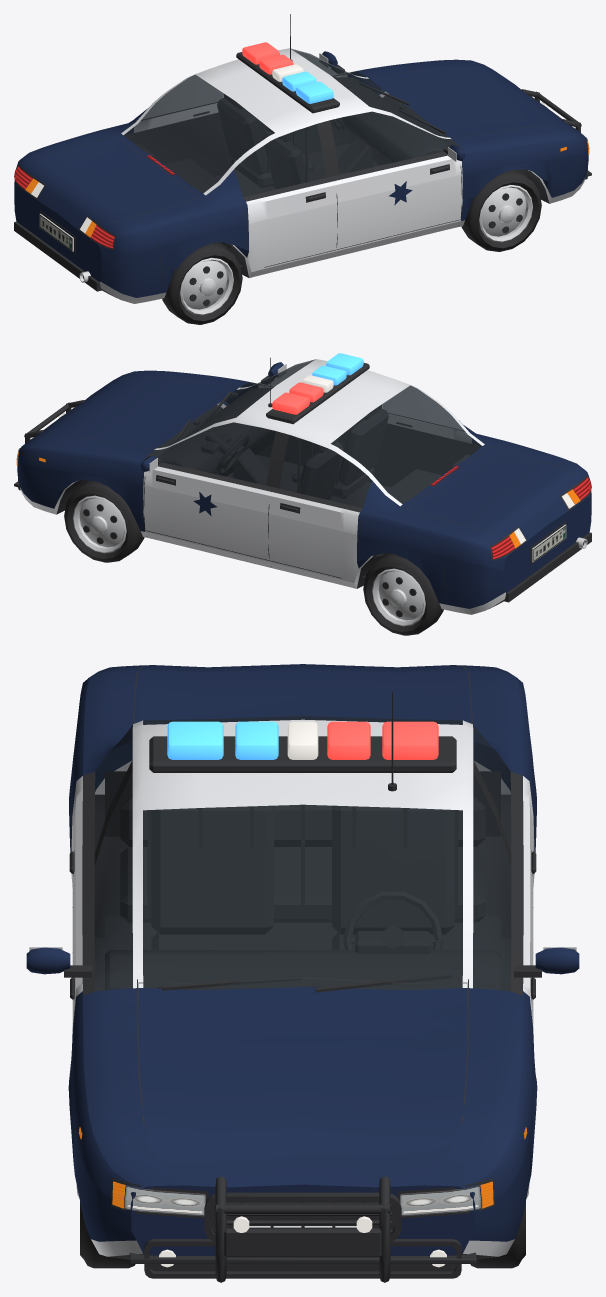
File: car_police.glb
The picture shows the model from 3 angles, top to bottom: view 1: azimuth 30°, elevation 25°; view 2: azimuth 150°, elevation 25°; view 3: azimuth 270°, elevation 25°; orthographic projection. The views are drawn at different scales.
Visible parts, largest first — view 1: Body, Wheel_RR, Wheel_FR, Lightbar; view 2: Body, Wheel_RL, Wheel_FL, Lightbar; view 3: Body, Lightbar, Wheel_FL, Wheel_FR.
Boxes of the visible parts, bbox=[...] form: Body: bbox=[14, 14, 591, 303]; Wheel_RR: bbox=[162, 242, 242, 324]; Wheel_FR: bbox=[461, 170, 541, 251]; Lightbar: bbox=[236, 42, 339, 113]; Body: bbox=[14, 357, 591, 614]; Wheel_RL: bbox=[363, 553, 443, 635]; Wheel_FL: bbox=[64, 480, 144, 562]; Lightbar: bbox=[266, 353, 369, 424]; Body: bbox=[26, 664, 579, 1282]; Lightbar: bbox=[149, 721, 456, 772]; Wheel_FL: bbox=[470, 1185, 529, 1268]; Wheel_FR: bbox=[76, 1185, 135, 1268].
Size of the model in its own units: 4.59 by 1.86 by 2.16.
10 materials, 3 textured.
